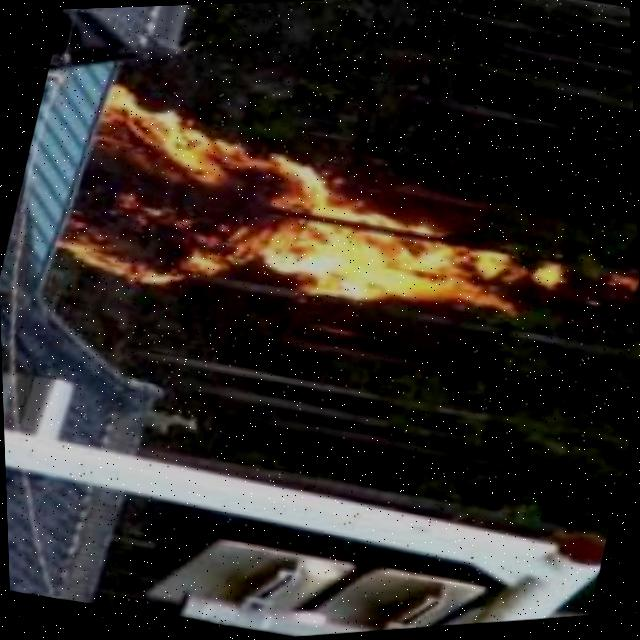fire: (105, 73, 562, 374), (55, 127, 120, 279)
